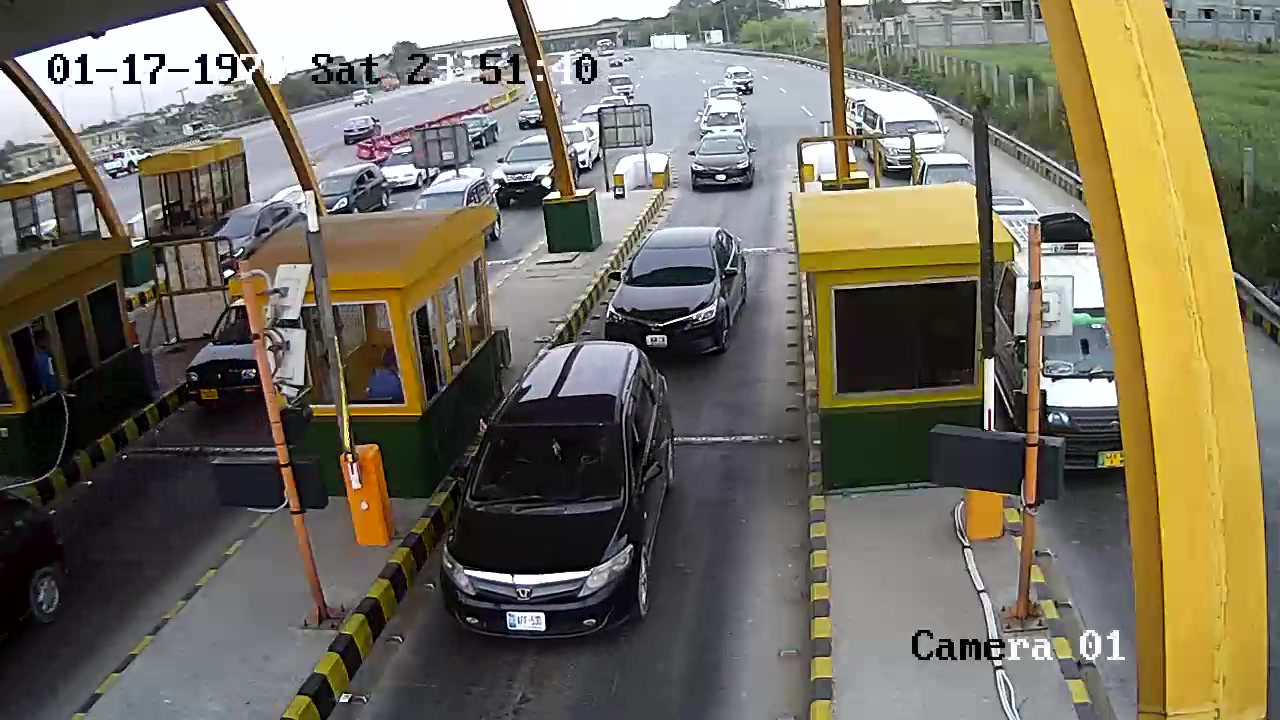F1: (433, 339, 689, 653)
